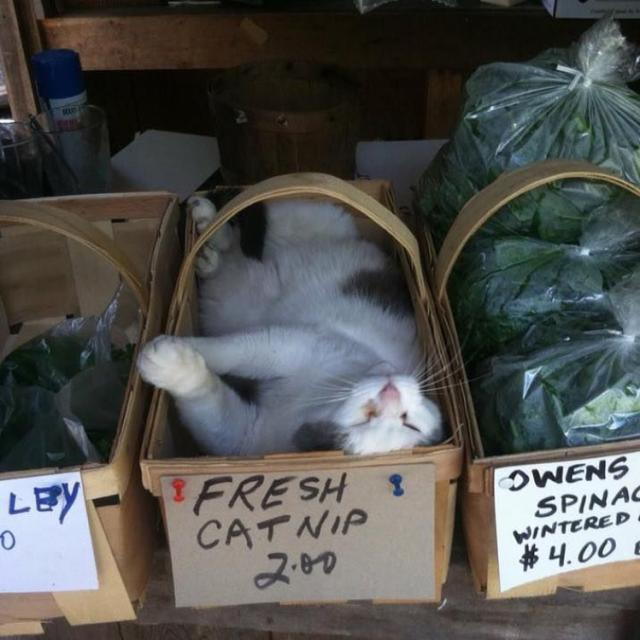cat: (165, 197, 463, 466)
